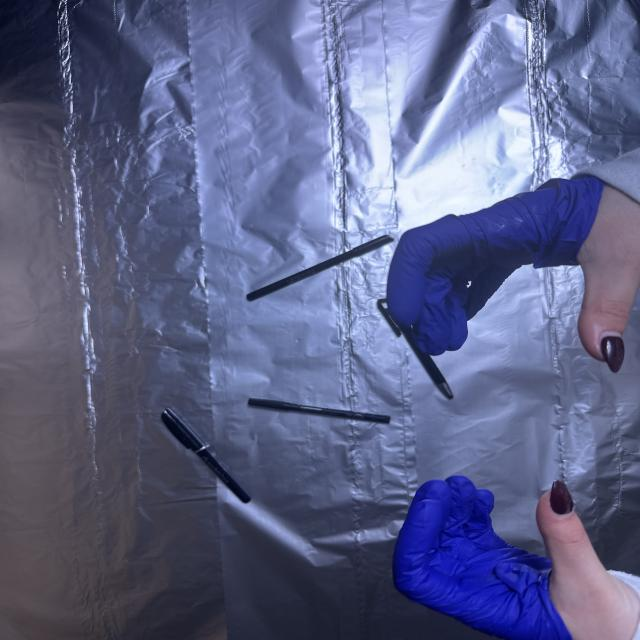glove_partial: (388, 166, 640, 375), (388, 471, 640, 640)
